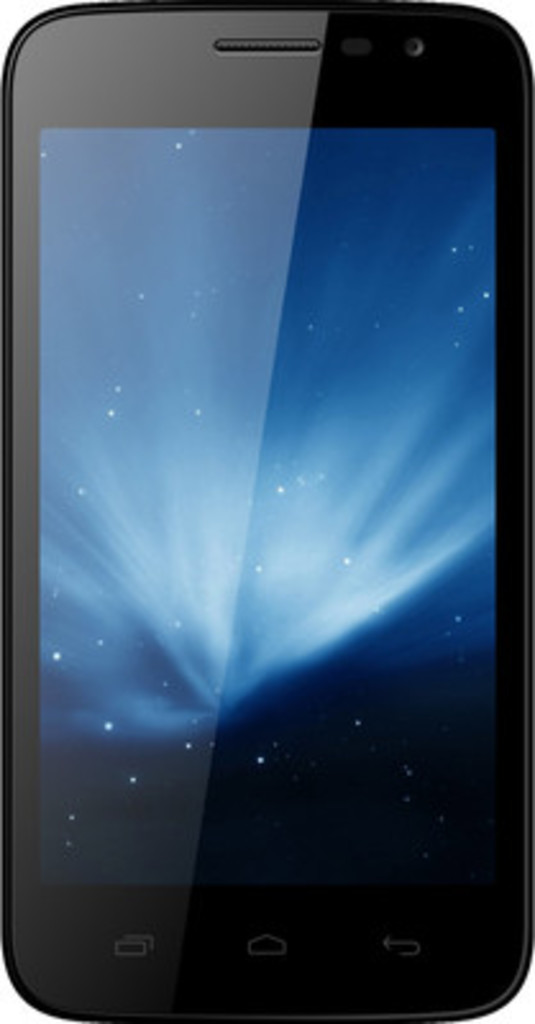Mobile-phone: (0, 8, 525, 998)
